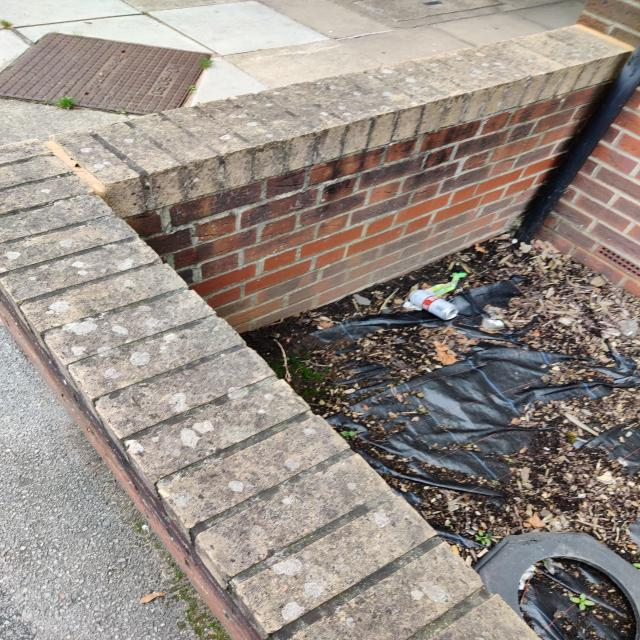litter: (405, 282, 467, 319)
